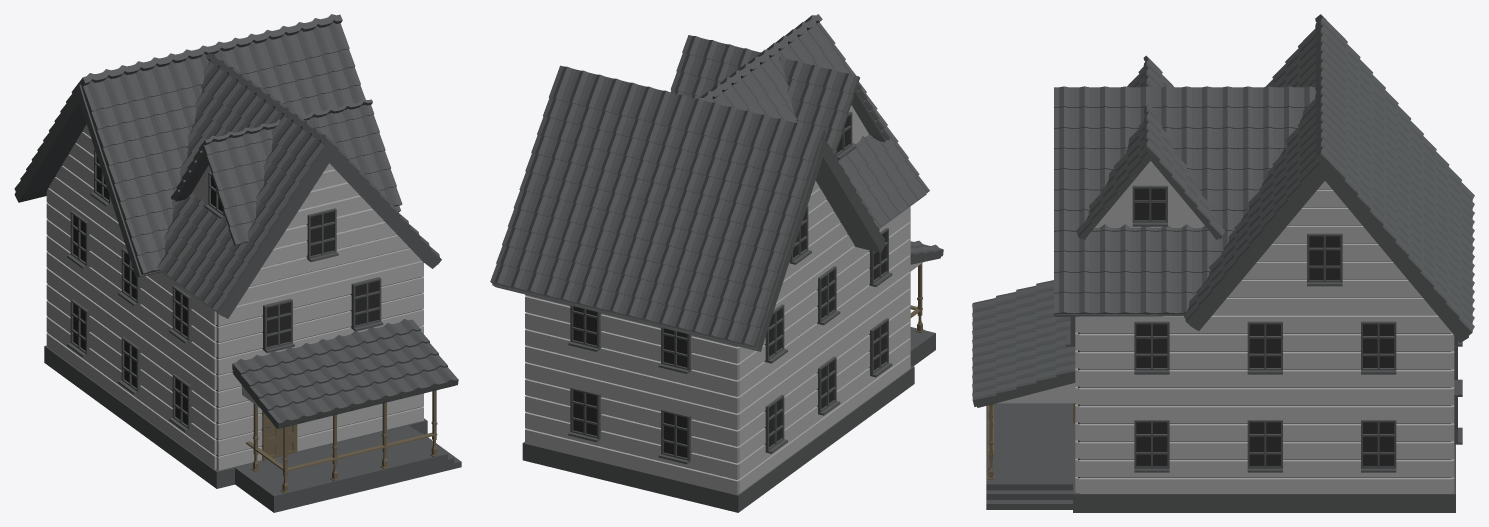
File: House1.glb
3 views of the same model, side by side, from view 1: azimuth 30°, elevation 25°; view 2: azimuth 150°, elevation 25°; view 3: azimuth 270°, elevation 25° (orthographic). The views are drawn at different scales.
Parts seen in each view (by area): view 1: House1; view 2: House1; view 3: House1.
Boxes of the visible parts, bbox=[...] form: House1: bbox=[14, 14, 461, 512]; House1: bbox=[490, 14, 943, 512]; House1: bbox=[972, 14, 1474, 512].
Bounding box in the file's own units: 256 × 318 × 387.
